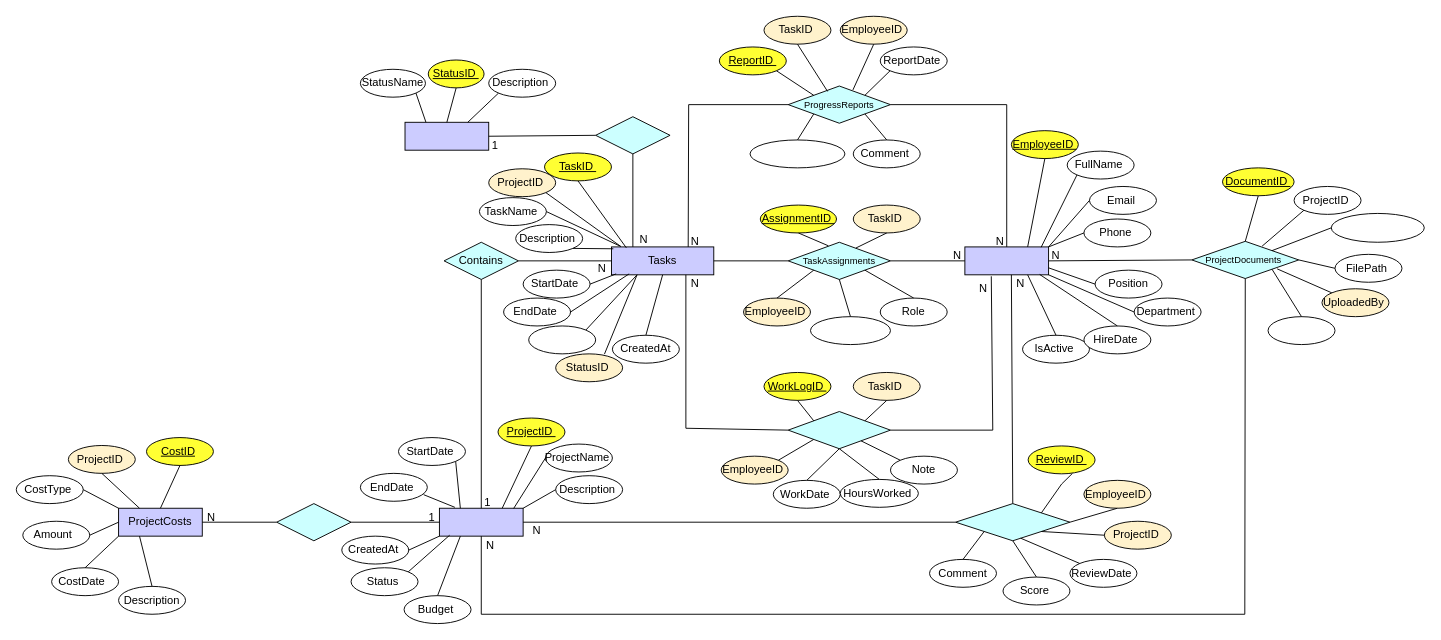
Image size: 1441x640. Some labels were removed from this diagram. The centre of each missing label's shape, as x and y in pixels:
"AssignedDate" goes at [850,330].
"AssignedStatus" goes at [632,135].
"DocumentName" goes at [1377,227].
"Employees" goes at [1006,260].
"HasCost" goes at [313,522].
"PerformanceReviews" goes at [1012,522].
"Priority" goes at [562,339].
"ProgressPercent" goes at [797,153].
"Projects" goes at [480,521].
"TaskStatus" goes at [446,135].
"UploadedAt" goes at [1301,330].
"WorkLogs" goes at [838,430].
